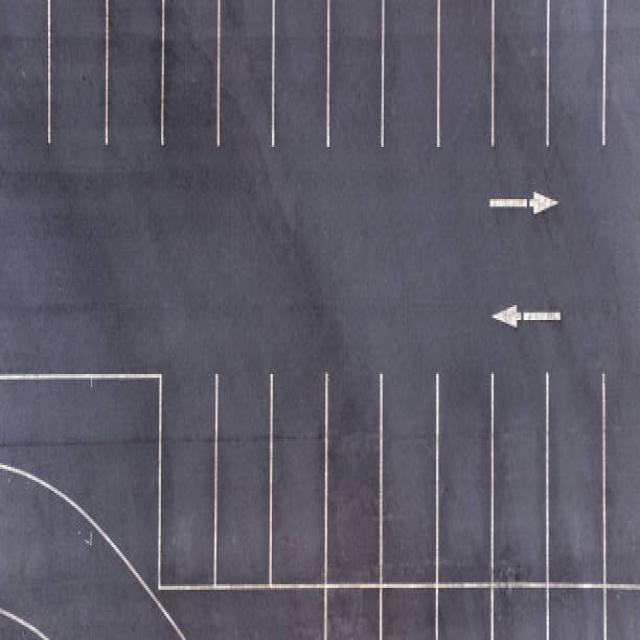libre: (164, 375, 632, 586), (0, 0, 640, 154), (322, 588, 640, 638)
